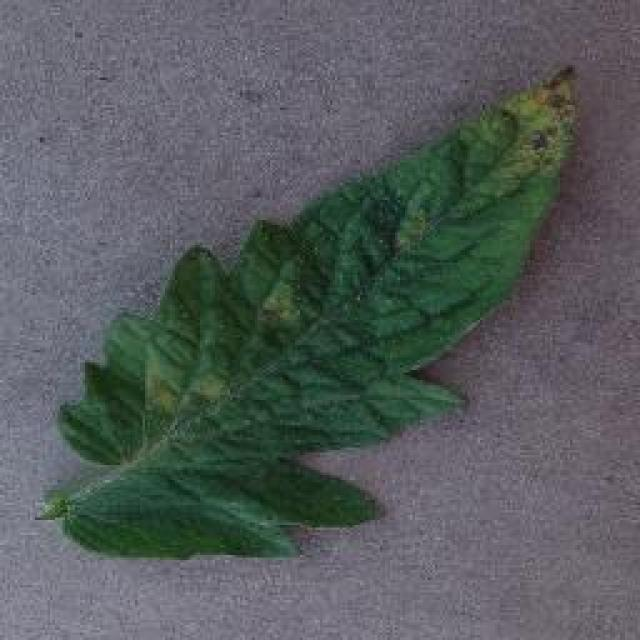Tomato___Leaf_Mold: (42, 68, 570, 555)
